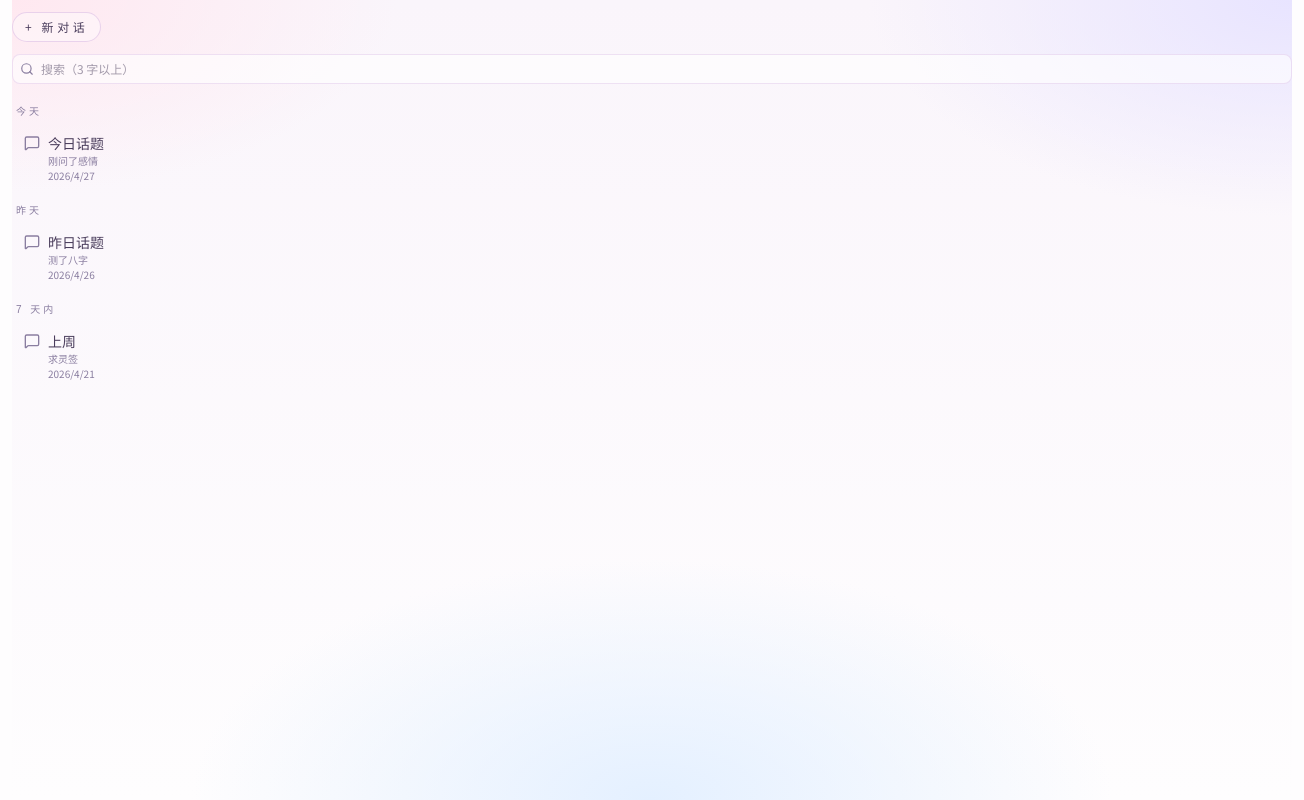
it: HistoryDrawerBody › 搜索框输入 3+ 字 → 调 search 接口 → 渲染结果
Expected: the text "今日话题" is shown, [48,133,104,153]
In the search field with placeholder "搜索（3 字以上）": (652, 69) [12,54,1292,84], type "感情话"
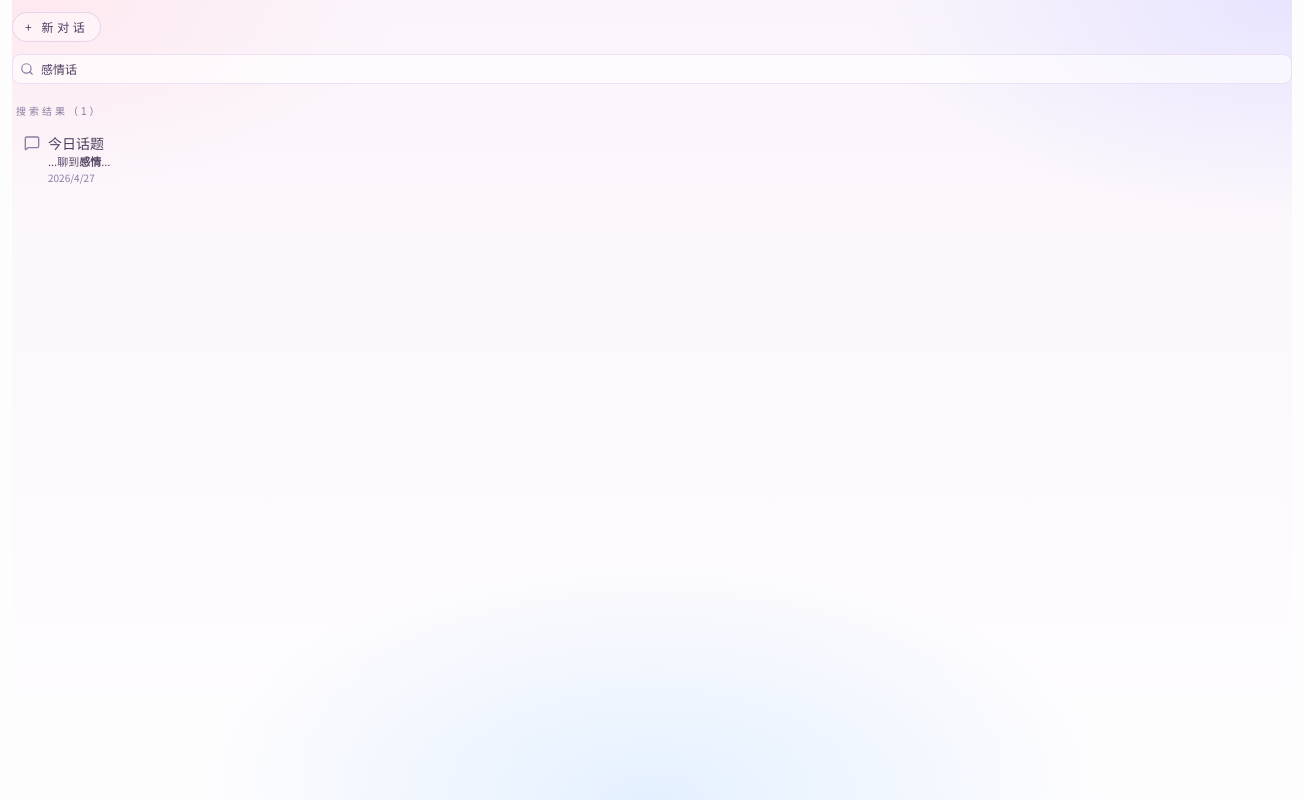
Expected: the heading "搜索结果（1）" is shown, [16,106,103,117]
